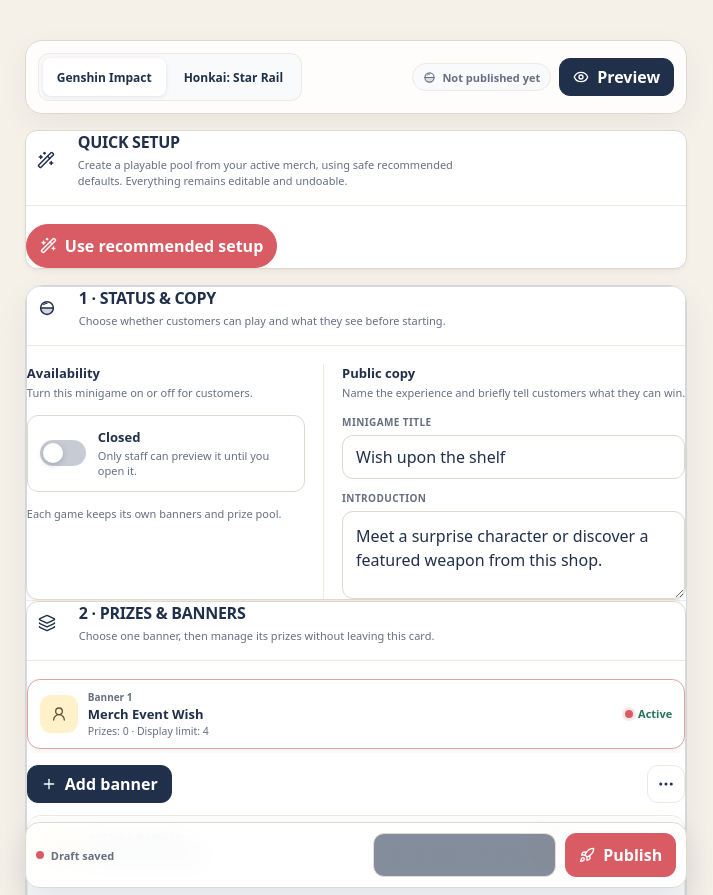
Test case: GachaManager recovery and safety › keeps autosave failures visible and supports an explicit retry
Step 1. Type " updated" into the field labelled "Minigame title" → (514, 457), box [342,435,685,479]
(page scrolled)
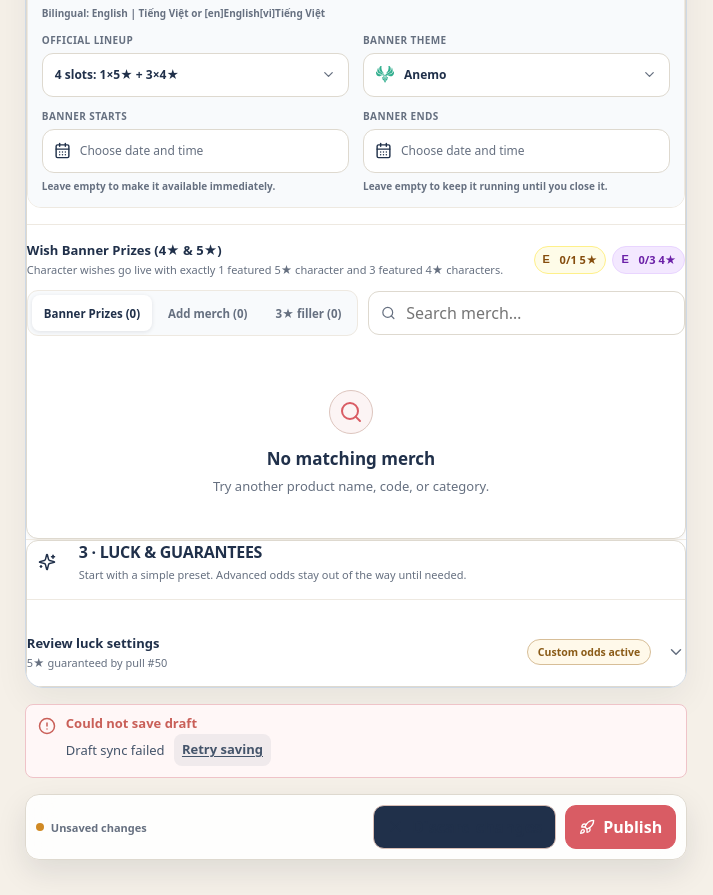
Check: the text "Draft sync failed" is shown, box [66,740,165,758]
Step 2. Click the button "Retry saving" → (222, 750), box [174,734,271,766]
(page scrolled)
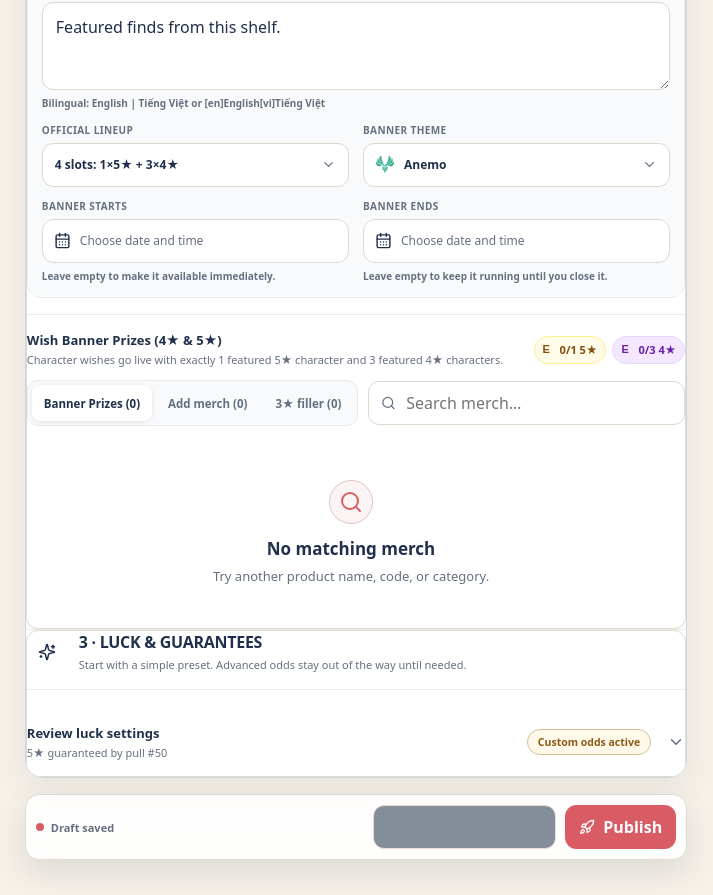
Check: the text "Draft sync failed" is gone
